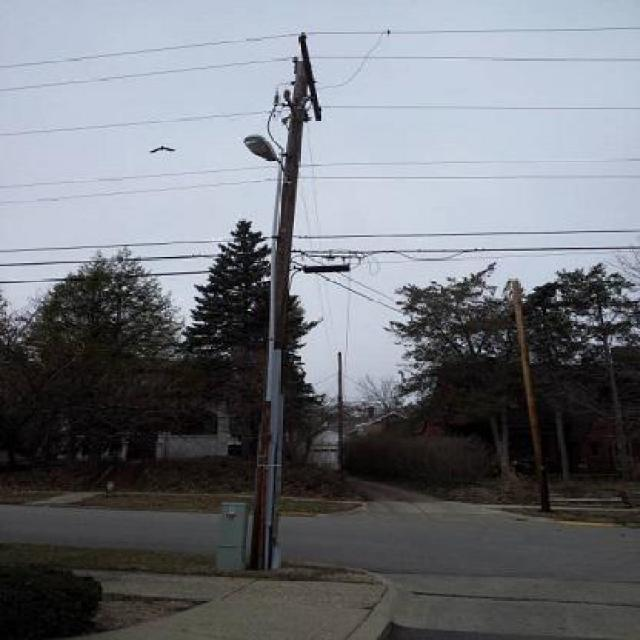pole: (256, 28, 356, 578)
